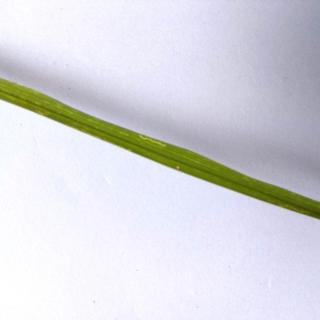Blast: (161, 156, 196, 183)
